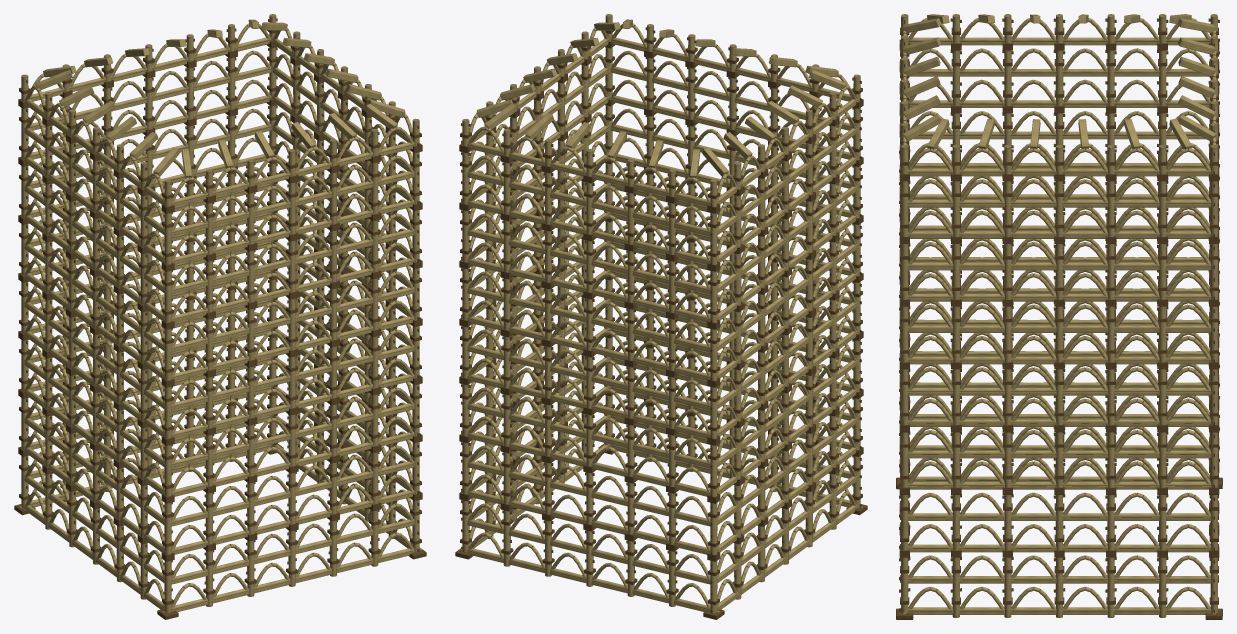
3 renders of one model, left to right at view 1: azimuth 30°, elevation 25°; view 2: azimuth 150°, elevation 25°; view 3: azimuth 270°, elevation 25°, orthographic. The views are drawn at different scales.
Size of the model in its own units: 2.85 by 4.65 by 2.85.
Materials: 2 (2 with a texture image).
